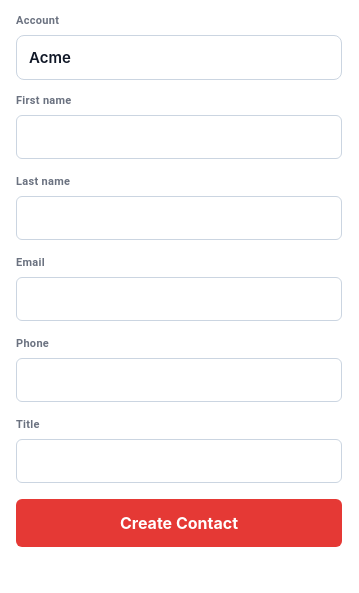
Test case: CRM contact forms › validates required account before create submit
Type "ada@example.test" into the field with test id "crm-contact-form-email" at [179, 299], box [16,277,342,321]
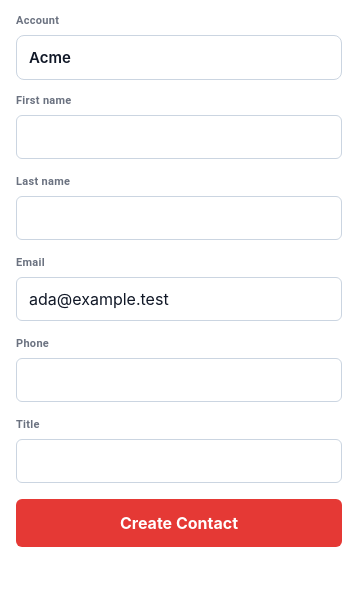
Click the element with test id "crm-contact-form-submit" at [179, 523], box [16,499,342,547]
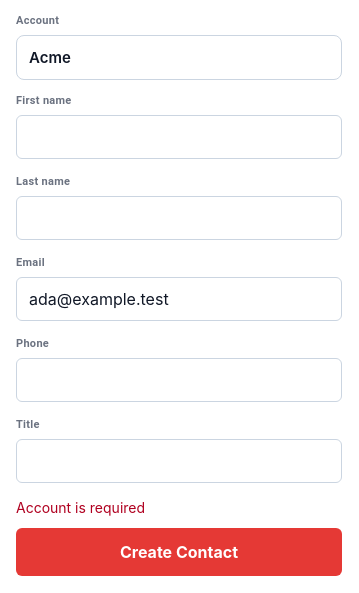
Check: the text "Account is required" is shown, box [16,499,145,516]
